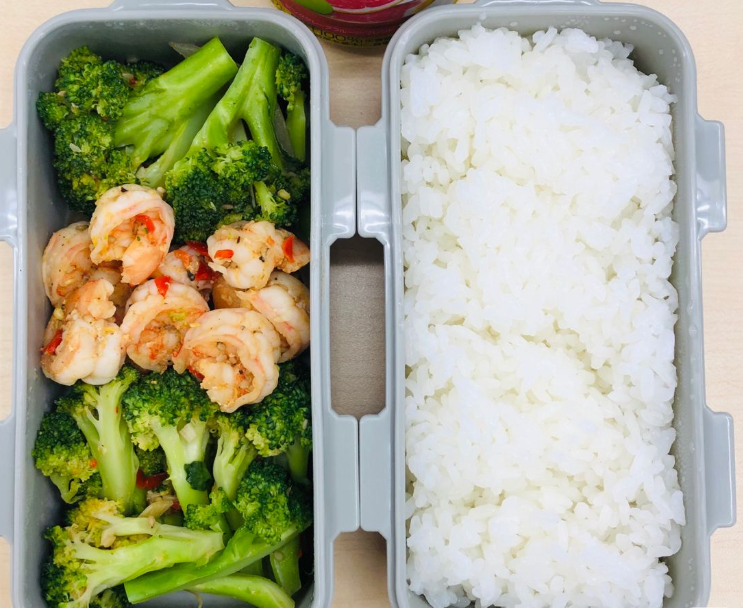buah_sayur_lainnya: (54, 412, 299, 601), (63, 57, 286, 181)
daging: (49, 231, 295, 352)
makanan_berpati: (416, 60, 656, 580)
